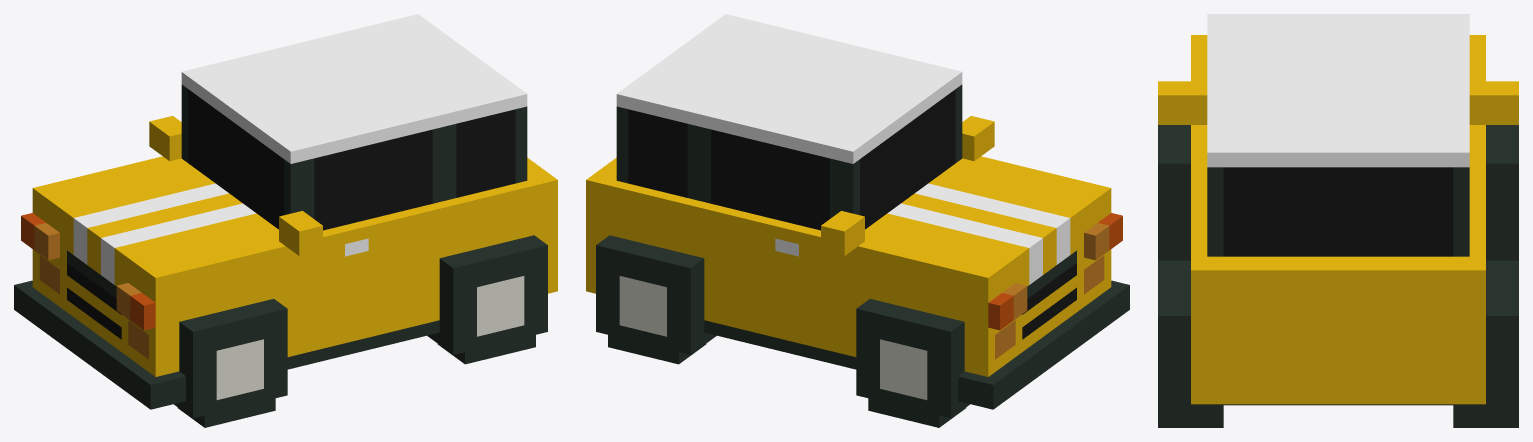
Rendered from car_yellow_len_2.glb.
3 views of the same model, side by side, from view 1: azimuth 30°, elevation 25°; view 2: azimuth 150°, elevation 25°; view 3: azimuth 270°, elevation 25° (orthographic). The views are drawn at different scales.
Visible parts, largest first — view 1: _0; view 2: _0; view 3: _0.
Part boxes in pixels (x1=…): _0: x1=14, y1=14, x2=557, y2=427; _0: x1=586, y1=14, x2=1129, y2=427; _0: x1=1158, y1=14, x2=1518, y2=427.
Size of the model in its own units: 0.0525 by 0.0285 by 0.033.
